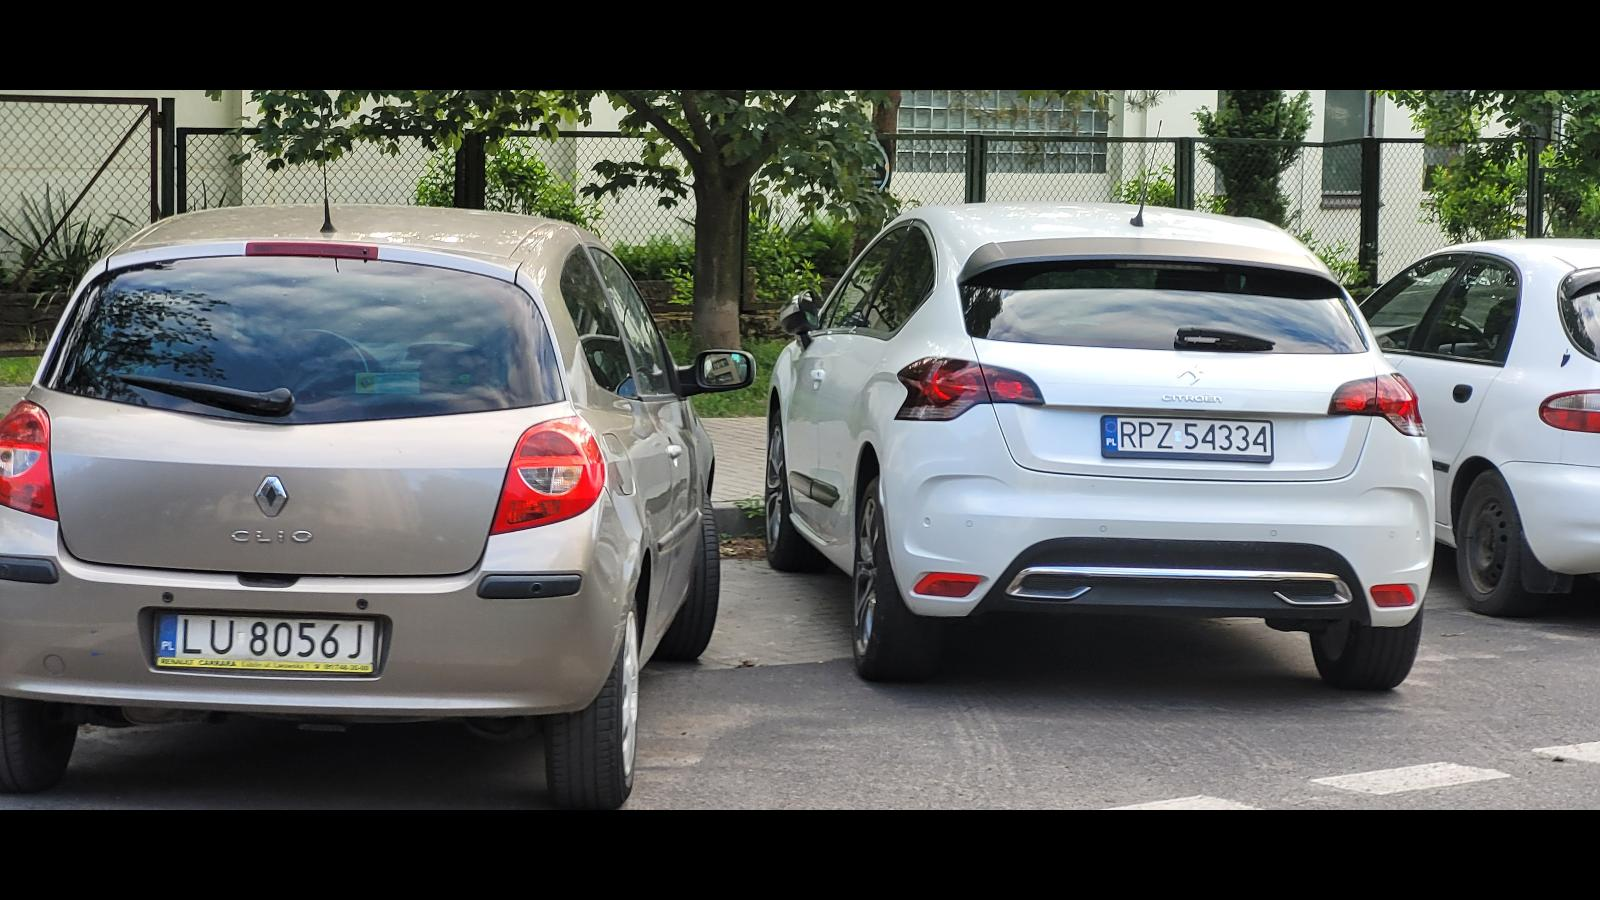plates: (154, 611, 378, 673), (1100, 416, 1274, 462)
